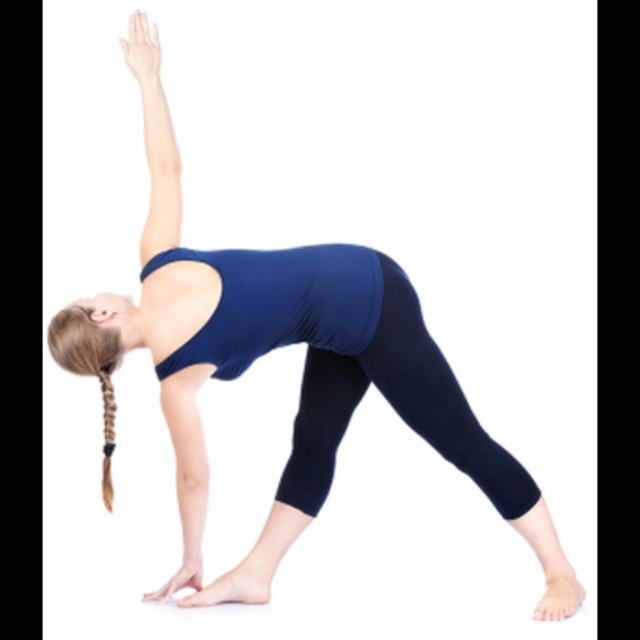Triangle_Pose: (37, 2, 590, 629)
